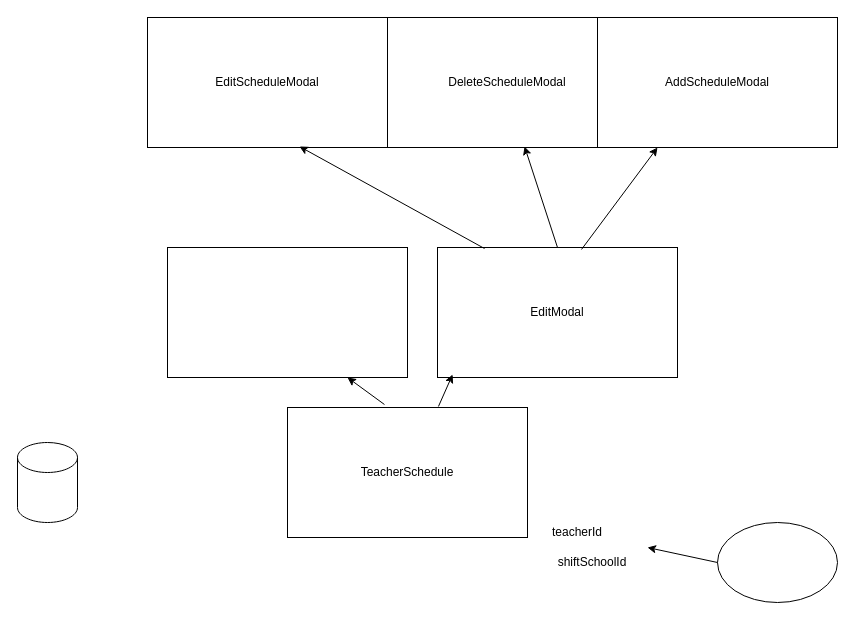
Image size: 855x620. Some labels were removed from this diagram. Each missing label, with the centre of its shape:
"ScheduleTable" goes at pixel 287 312.
"store" goes at pixel 47 482.
"URL" goes at pixel 777 562.
